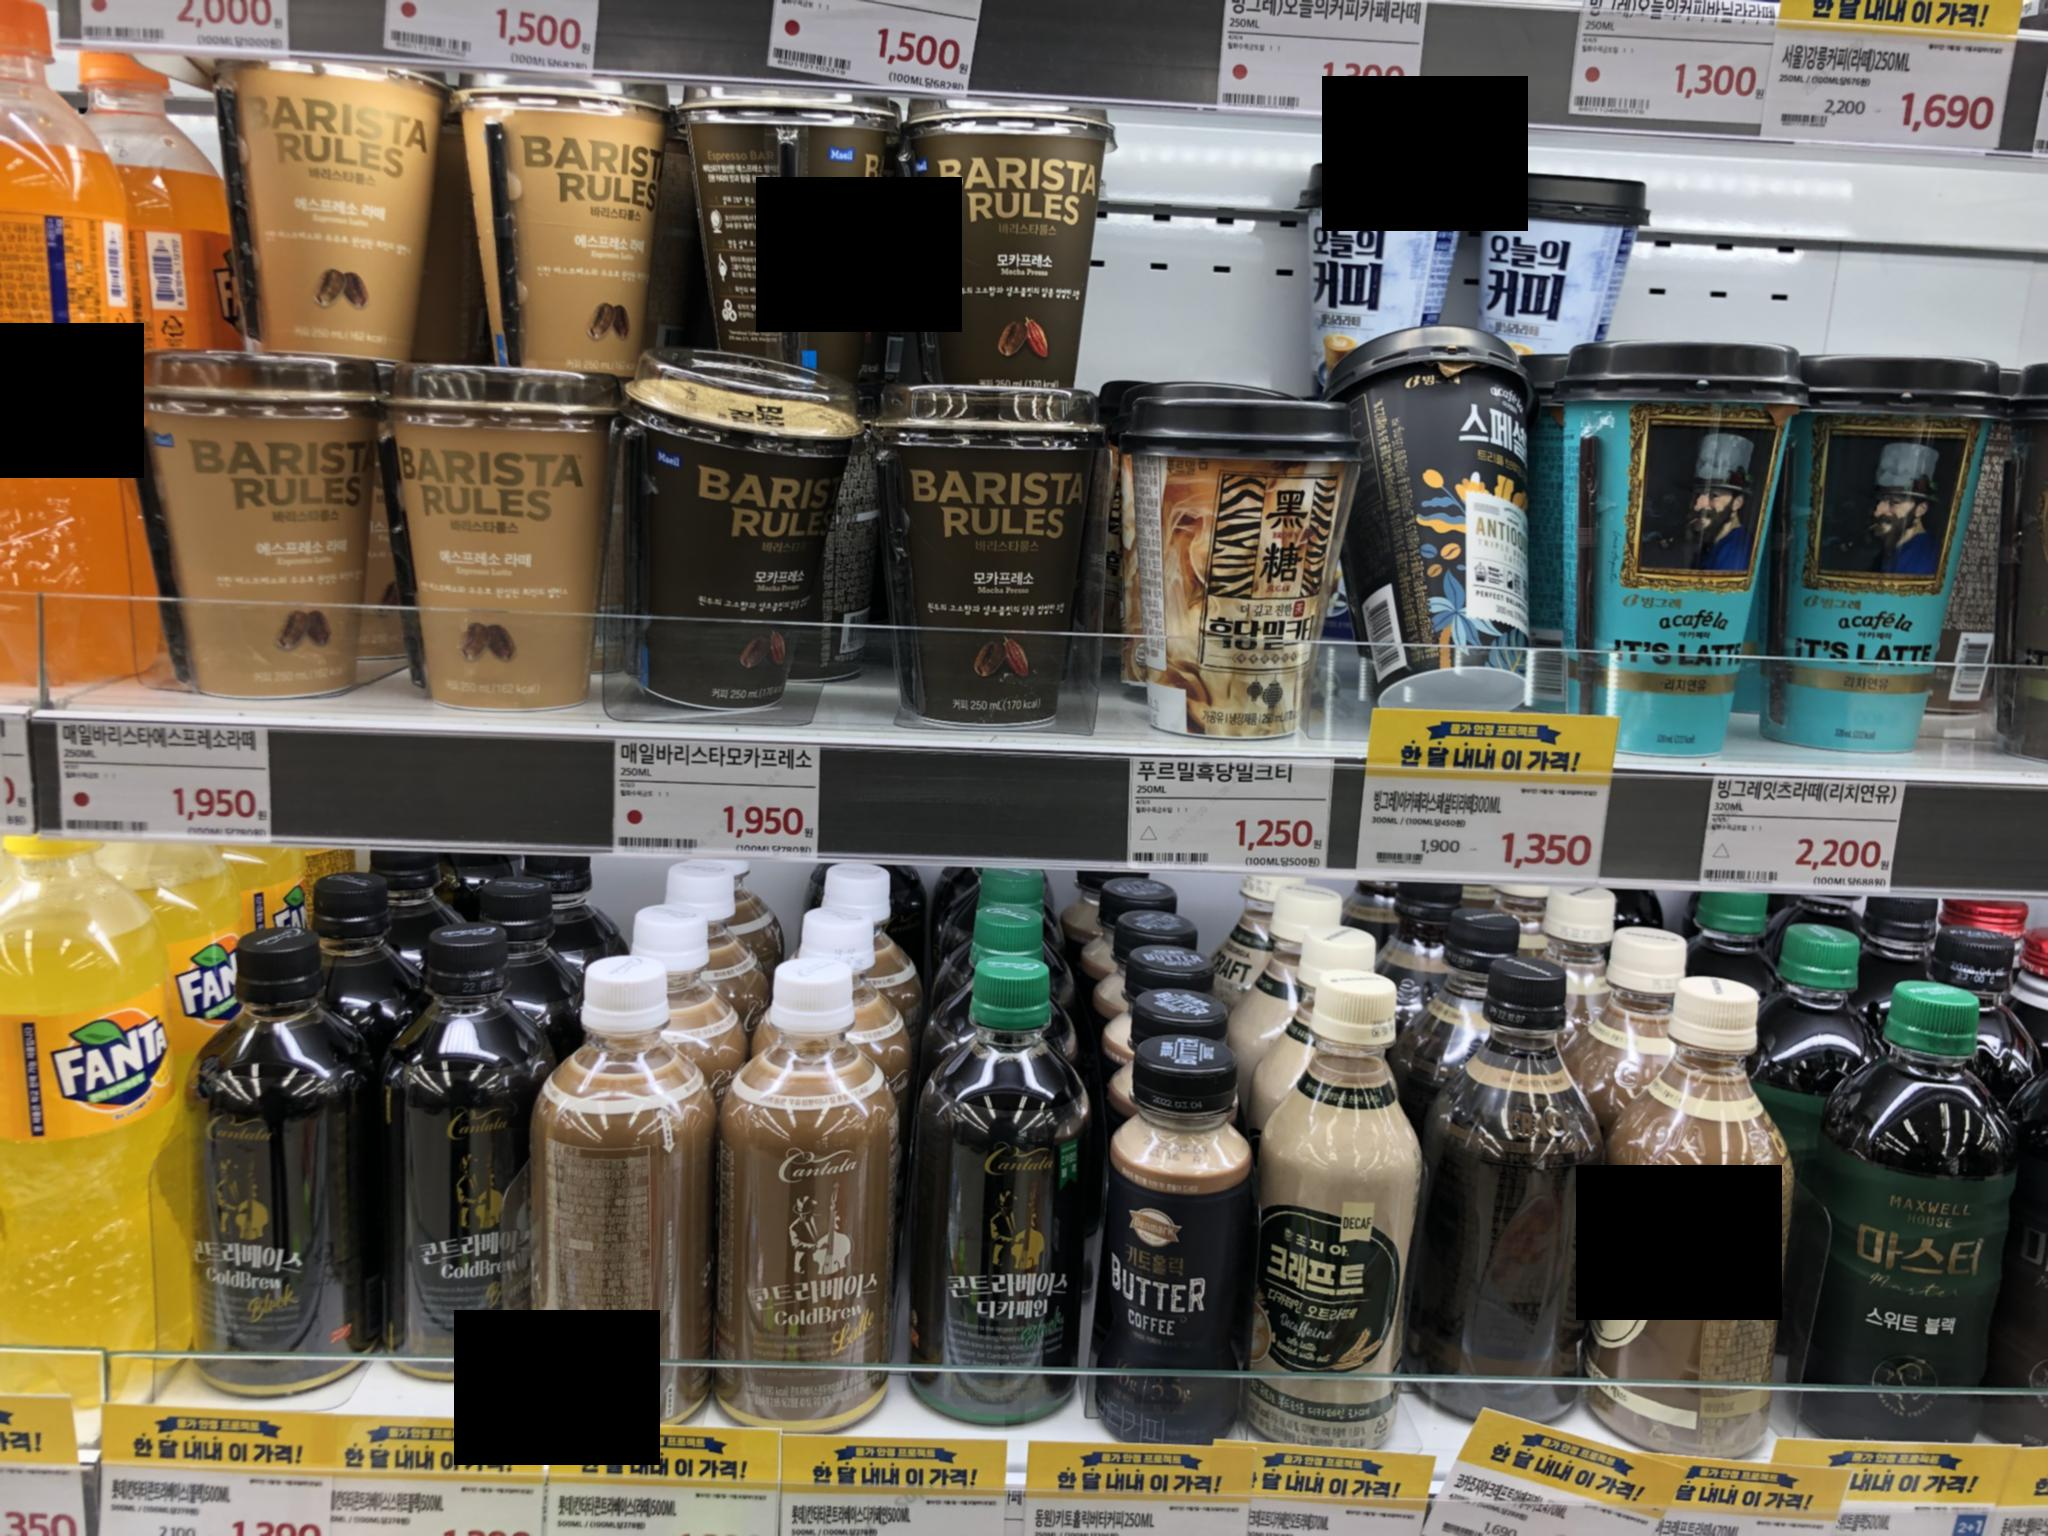baristarules_espressolatte: (129, 350, 395, 691), (392, 336, 621, 700), (200, 15, 443, 352), (464, 40, 674, 365)
